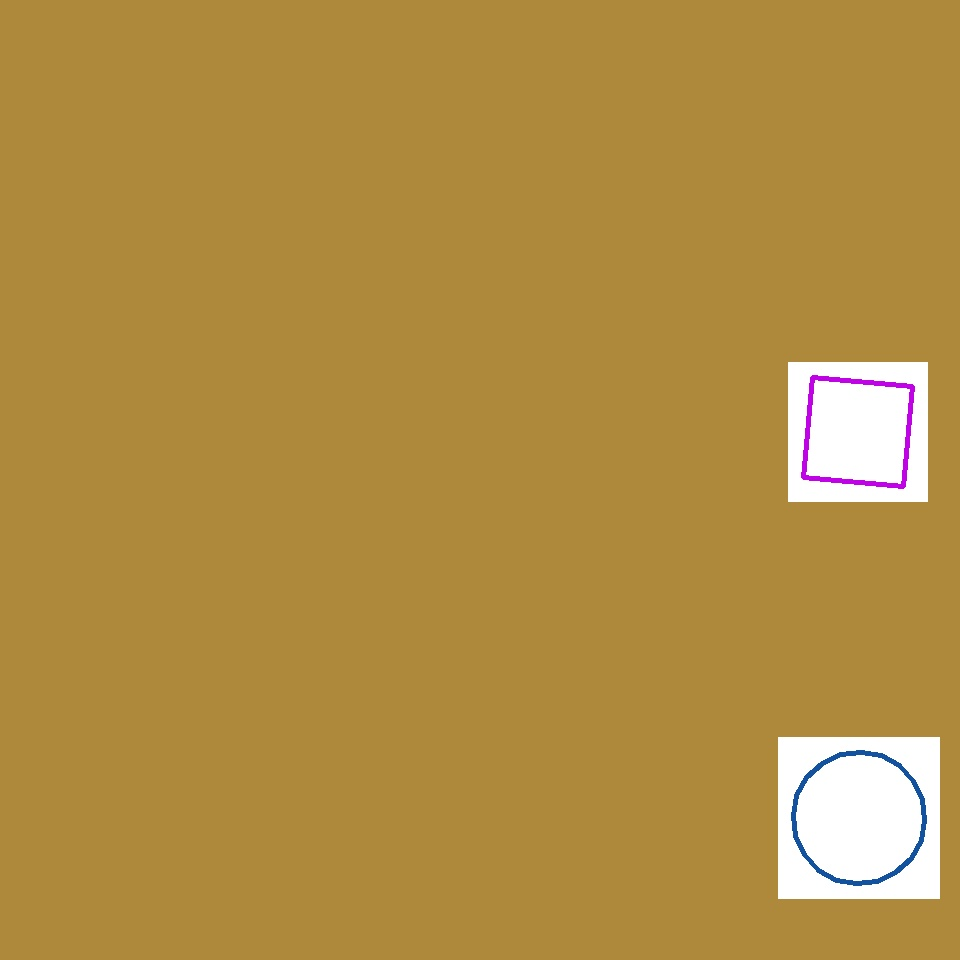circle: (528, 346, 652, 486)
square: (804, 378, 912, 487)
triangle: (366, 57, 657, 347), (562, 546, 806, 788), (794, 752, 924, 884), (613, 582, 743, 712), (7, 502, 114, 610)
